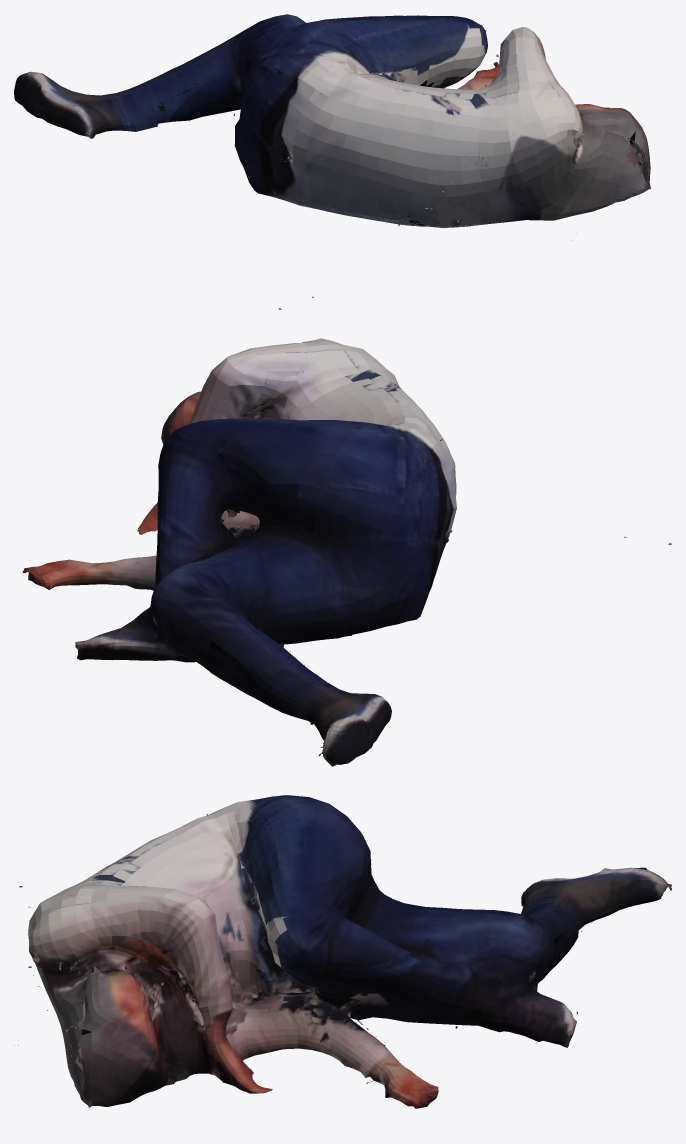
File: AB-death_0000120.obj
The picture shows the model from 3 angles, top to bottom: view 1: azimuth 30°, elevation 25°; view 2: azimuth 150°, elevation 25°; view 3: azimuth 270°, elevation 25°; orthographic projection. The views are drawn at different scales.
Visible parts, largest first — view 1: Retopo_frame_0000120_mesh; view 2: Retopo_frame_0000120_mesh; view 3: Retopo_frame_0000120_mesh.
Part boxes in pixels (x1,y1,x2,y2): Retopo_frame_0000120_mesh: [14, 14, 650, 309]; Retopo_frame_0000120_mesh: [22, 338, 671, 766]; Retopo_frame_0000120_mesh: [14, 795, 671, 1108].
Bounding box in the file's own units: 1.08 × 0.3611 × 1.24.
Materials: 1 (1 with a texture image).
